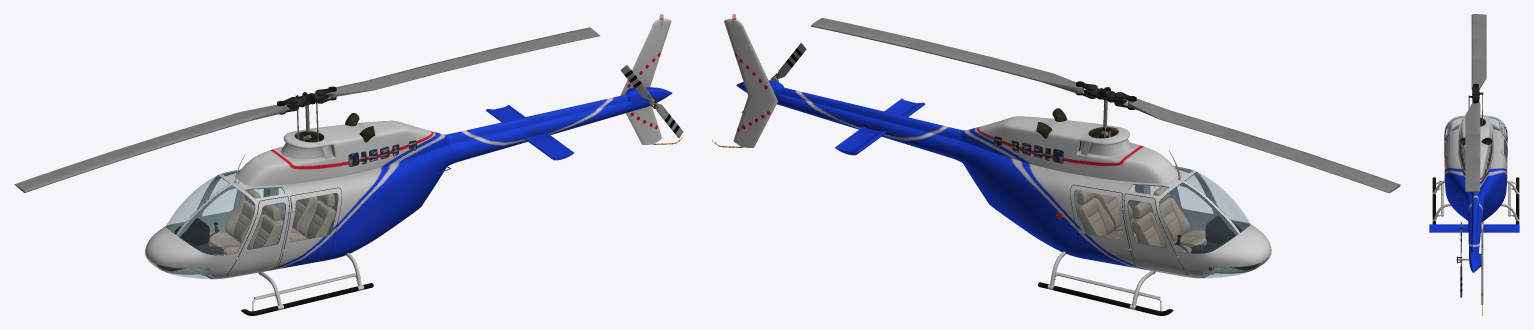
3 renders of one model, left to right at view 1: azimuth 30°, elevation 25°; view 2: azimuth 150°, elevation 25°; view 3: azimuth 270°, elevation 25°, orthographic. The views are drawn at different scales.
Parts seen in each view (by area): view 1: fuselage_fuselage.mesh, tail_tail.mesh, windows_windows.mesh, vertstab_vertstab.mesh, leftdoor2_leftdoor2.mesh, interieur_interieur.mesh, leftdoor1_leftdoor1.mesh, leftwindow2_leftwindow2.mesh, seat_seat.mesh, seat.003_seat.mesh.003, blade1.001_blade1.001.mesh, blade1_blade1.mesh (+13 smaller); view 2: fuselage_fuselage.mesh, tail_tail.mesh, windows_windows.mesh, vertstab_vertstab.mesh, intwindows_intwindows.mesh, rightdoor2_rightdoor2.mesh, interieur_interieur.mesh, rightdoor1_rightdoor1.mesh, intrightwindow2_intrightwindow2.mesh, seat.002_seat.mesh.002, seat.001_seat.mesh.001, blade1.001_blade1.001.mesh (+13 smaller); view 3: fuselage_fuselage.mesh, tail_tail.mesh, elevatortrim_elevatortrim.mesh, blade1_blade1.mesh, blade1.001_blade1.001.mesh, blade3_blade3.mesh, blade2_blade2.mesh, blade2.001_blade2.001.mesh, skids_skids.mesh, blade3.001_blade3.001.mesh, vertstab_vertstab.mesh, interieur_interieur.mesh (+12 smaller).
Boxes of the visible parts, left/top/right/bottom form: fuselage_fuselage.mesh: left=145, top=120, right=455, bottom=279; tail_tail.mesh: left=447, top=87, right=672, bottom=163; windows_windows.mesh: left=157, top=141, right=416, bottom=278; vertstab_vertstab.mesh: left=620, top=18, right=671, bottom=144; leftdoor2_leftdoor2.mesh: left=278, top=188, right=341, bottom=266; interieur_interieur.mesh: left=155, top=169, right=350, bottom=278; leftdoor1_leftdoor1.mesh: left=227, top=196, right=288, bottom=275; leftwindow2_leftwindow2.mesh: left=290, top=193, right=337, bottom=241; seat_seat.mesh: left=208, top=189, right=262, bottom=249; seat.003_seat.mesh.003: left=276, top=193, right=335, bottom=243; blade1.001_blade1.001.mesh: left=179, top=104, right=290, bottom=138; blade1_blade1.mesh: left=324, top=65, right=434, bottom=99; fuselage_fuselage.mesh: left=954, top=116, right=1271, bottom=278; tail_tail.mesh: left=736, top=80, right=962, bottom=159; windows_windows.mesh: left=994, top=137, right=1259, bottom=277; vertstab_vertstab.mesh: left=724, top=18, right=778, bottom=147; intwindows_intwindows.mesh: left=1159, top=167, right=1249, bottom=277; rightdoor2_rightdoor2.mesh: left=1071, top=185, right=1135, bottom=265; interieur_interieur.mesh: left=1061, top=166, right=1260, bottom=278; rightdoor1_rightdoor1.mesh: left=1124, top=194, right=1187, bottom=274; intrightwindow2_intrightwindow2.mesh: left=1075, top=191, right=1123, bottom=239; seat.002_seat.mesh.002: left=1076, top=191, right=1136, bottom=241; seat.001_seat.mesh.001: left=1152, top=186, right=1206, bottom=247; blade1.001_blade1.001.mesh: left=1122, top=98, right=1231, bottom=137; fuselage_fuselage.mesh: left=1444, top=115, right=1507, bottom=221; tail_tail.mesh: left=1467, top=192, right=1484, bottom=272; elevatortrim_elevatortrim.mesh: left=1429, top=224, right=1519, bottom=232; blade1_blade1.mesh: left=1465, top=102, right=1480, bottom=134; blade1.001_blade1.001.mesh: left=1471, top=59, right=1486, bottom=90; blade3_blade3.mesh: left=1465, top=157, right=1480, bottom=182; blade2_blade2.mesh: left=1465, top=134, right=1480, bottom=158; blade2.001_blade2.001.mesh: left=1471, top=39, right=1486, bottom=59; skids_skids.mesh: left=1432, top=177, right=1519, bottom=224; blade3.001_blade3.001.mesh: left=1471, top=20, right=1486, bottom=39; vertstab_vertstab.mesh: left=1480, top=222, right=1483, bottom=304; interieur_interieur.mesh: left=1445, top=117, right=1506, bottom=156.
Size of the model in its own units: 11.86 by 3.07 by 2.04.
Materials: 36 (34 with a texture image).
